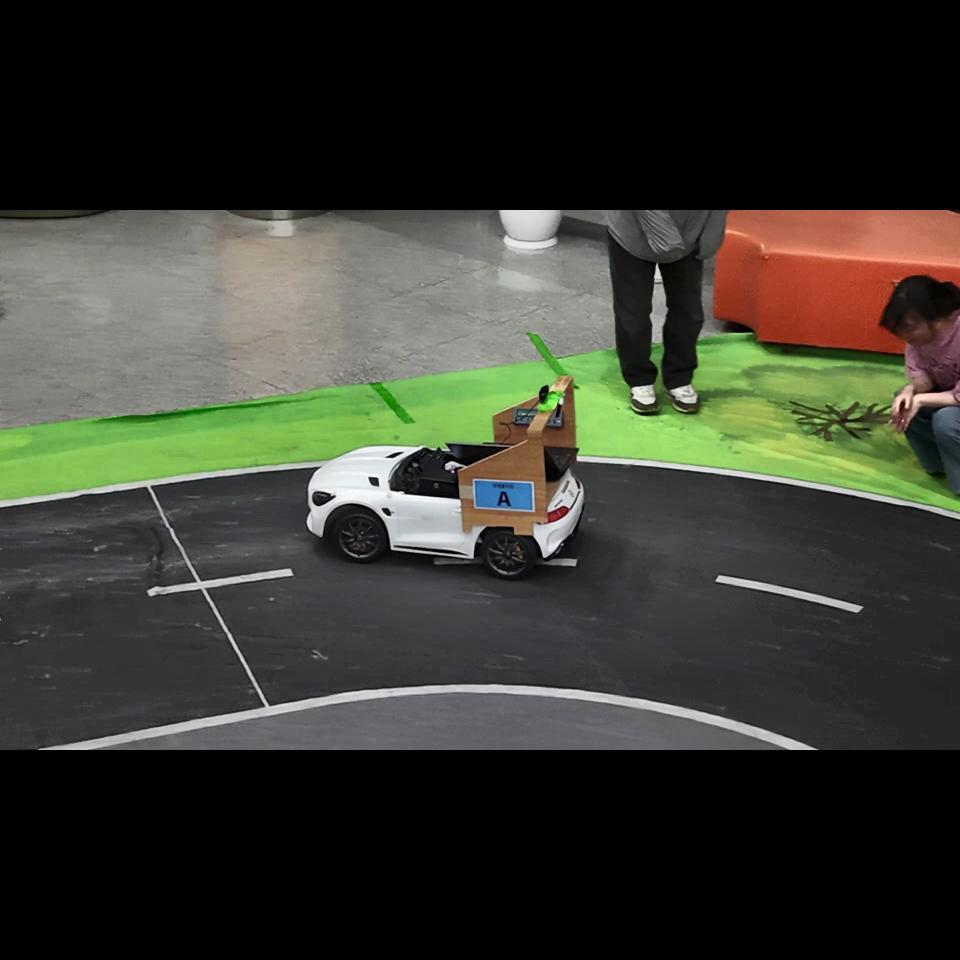broken_line: (715, 575, 864, 613), (146, 568, 294, 597), (434, 556, 483, 564), (538, 558, 577, 566)
